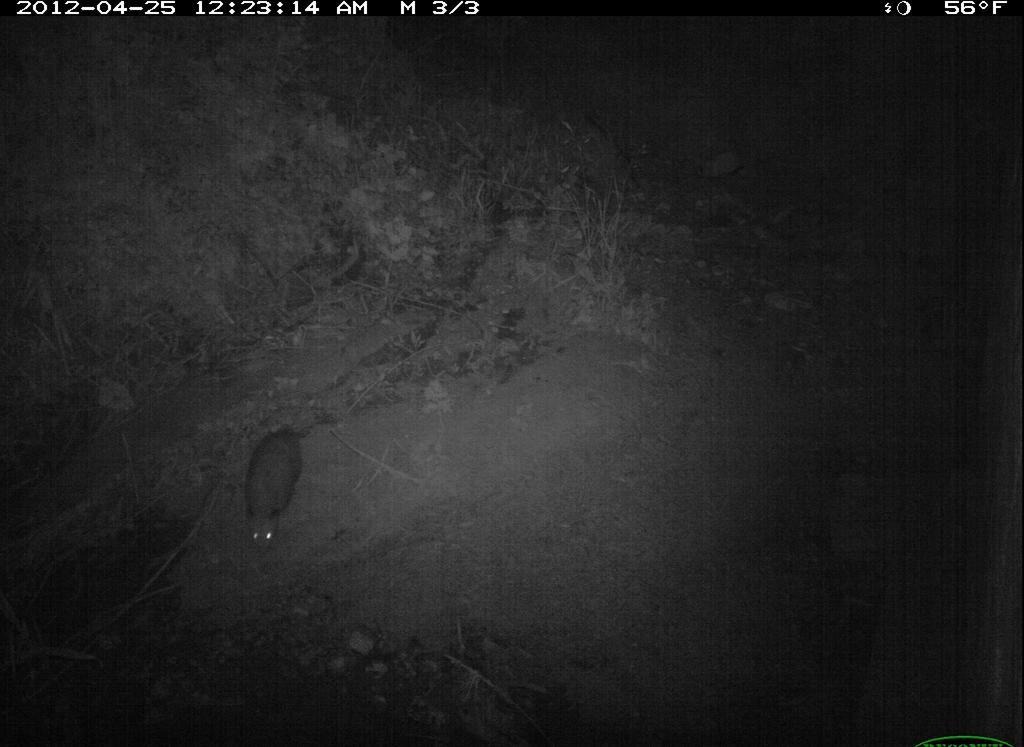opossum: (232, 409, 340, 574)
